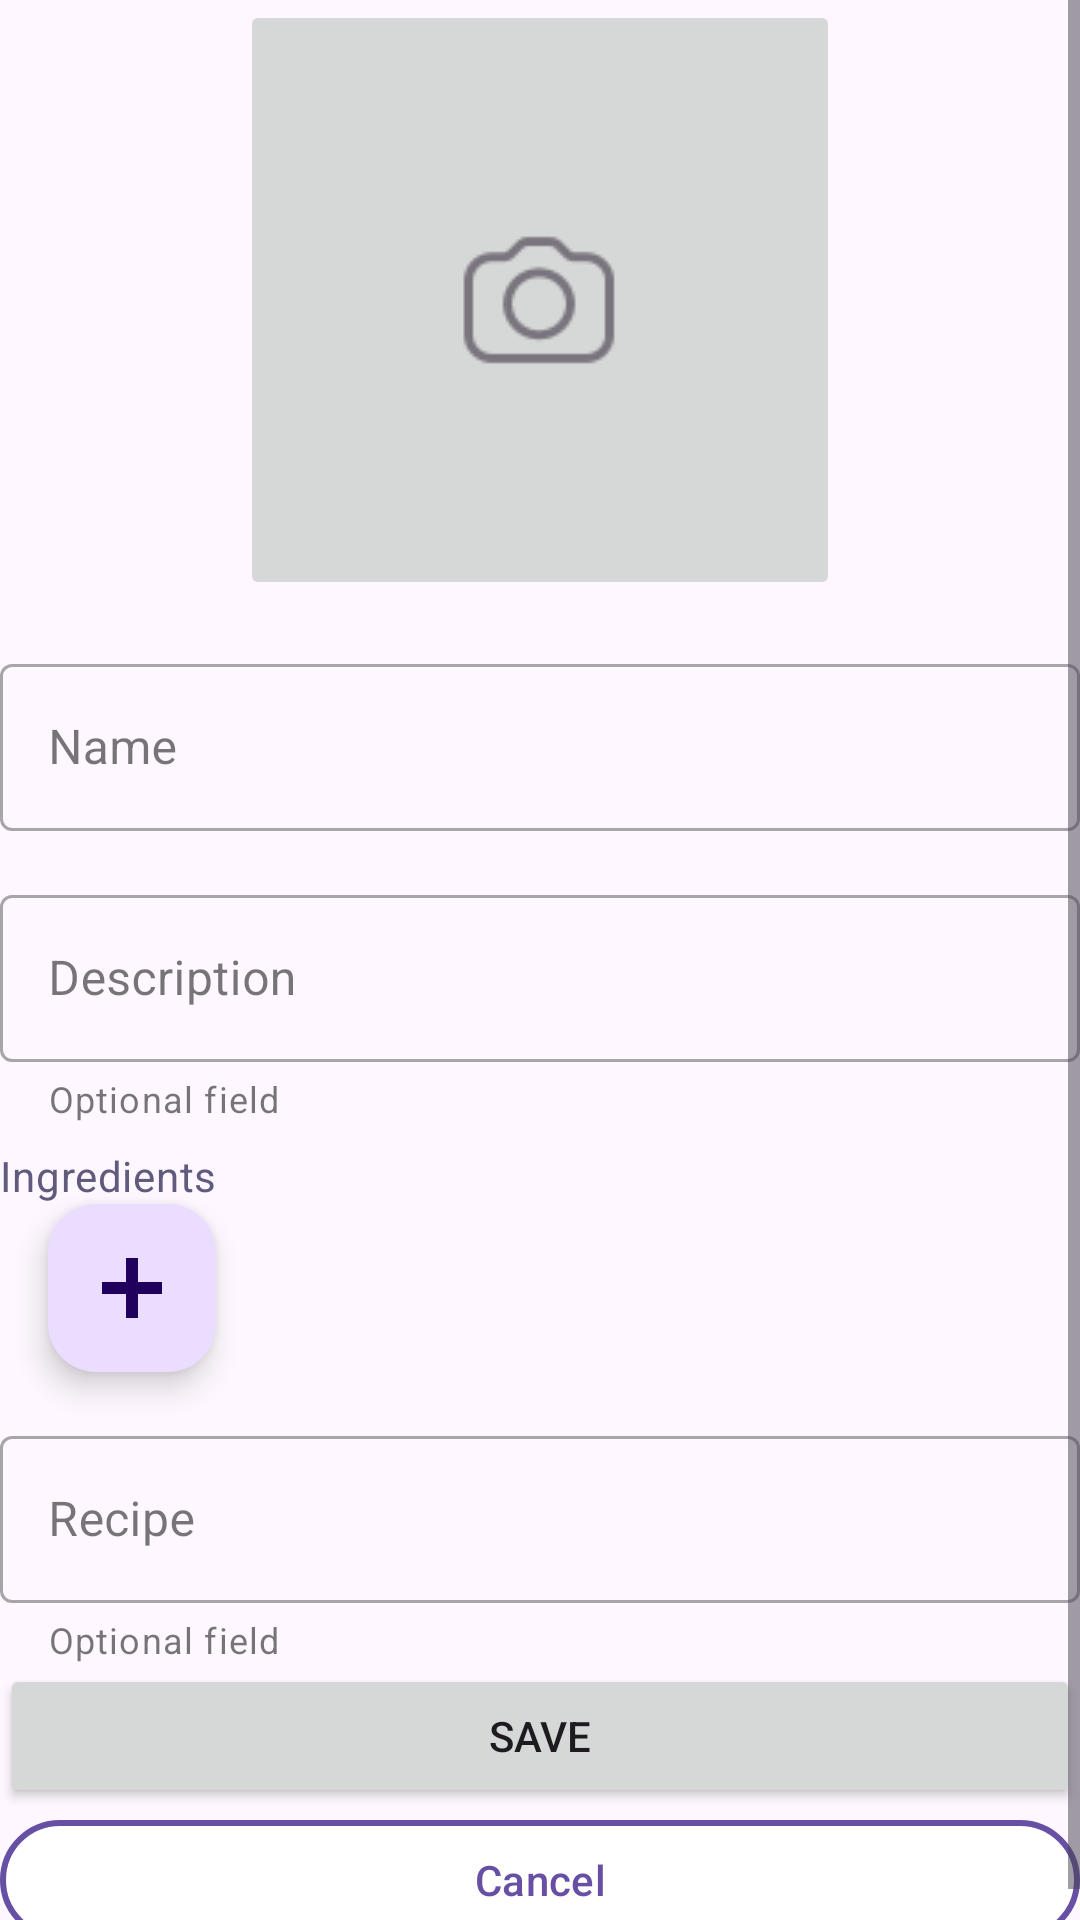

Icon bounding boxes for this 1080px×1920px phone screenshot, format (x1, y1, x2, y2):
plus sign: (48, 1204, 216, 1372)
